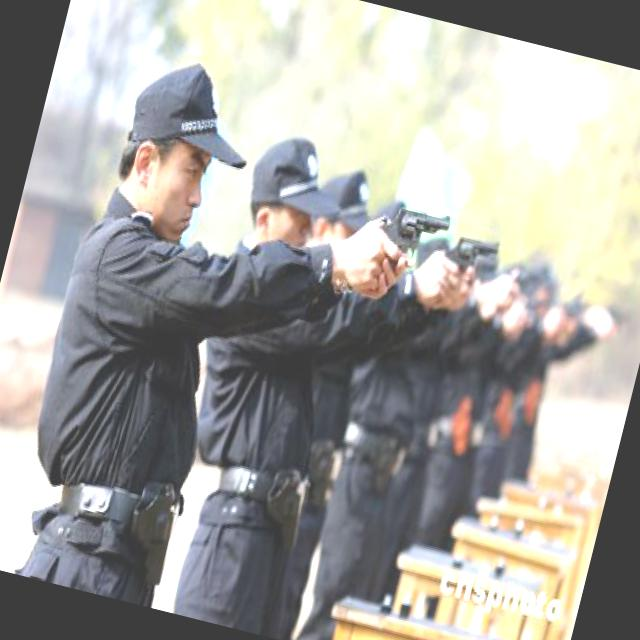handgun: (368, 196, 450, 280), (438, 224, 499, 280)
